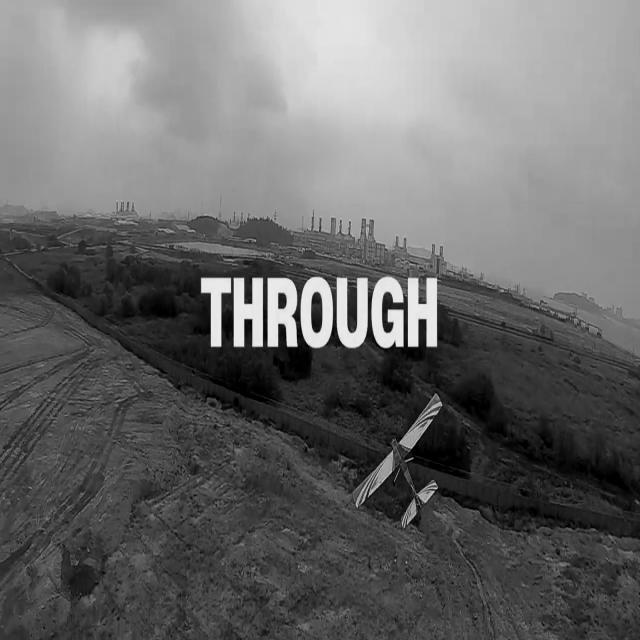iha: (379, 382, 424, 523)
